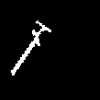double_crochet: (11, 21, 50, 74)
